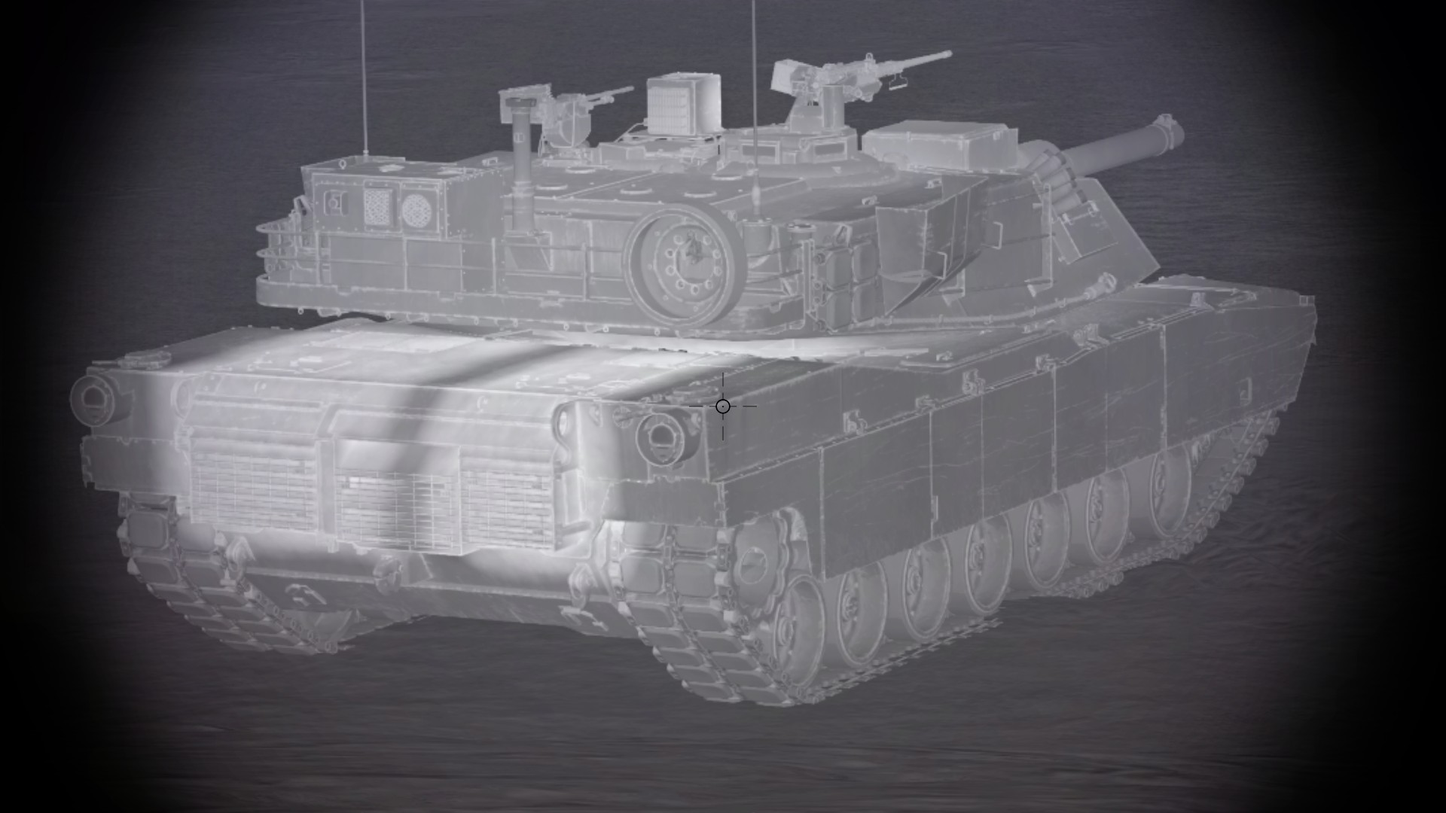abrams: (69, 46, 1320, 707)
